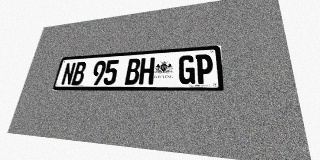5: (103, 60, 119, 85)
9: (91, 60, 107, 85)
B: (124, 58, 141, 85), (71, 62, 87, 85)
G: (178, 55, 195, 84)
H: (138, 57, 155, 85)
N: (60, 62, 76, 85)
P: (196, 54, 213, 84)
